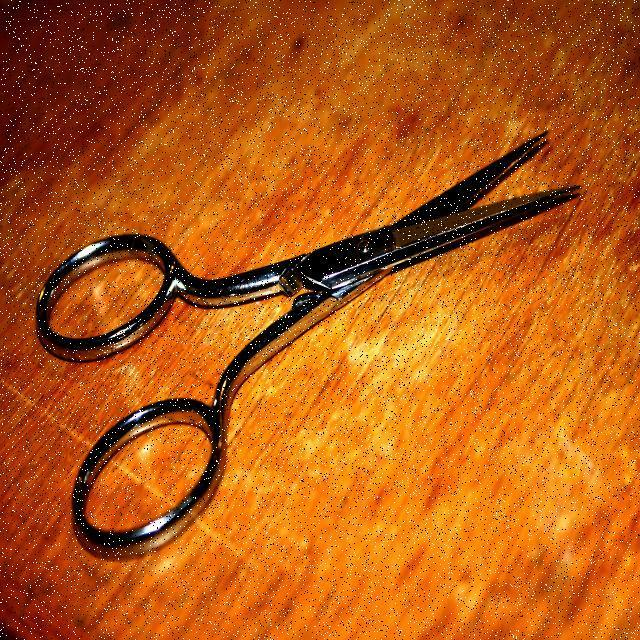scissors: (33, 124, 587, 564)
